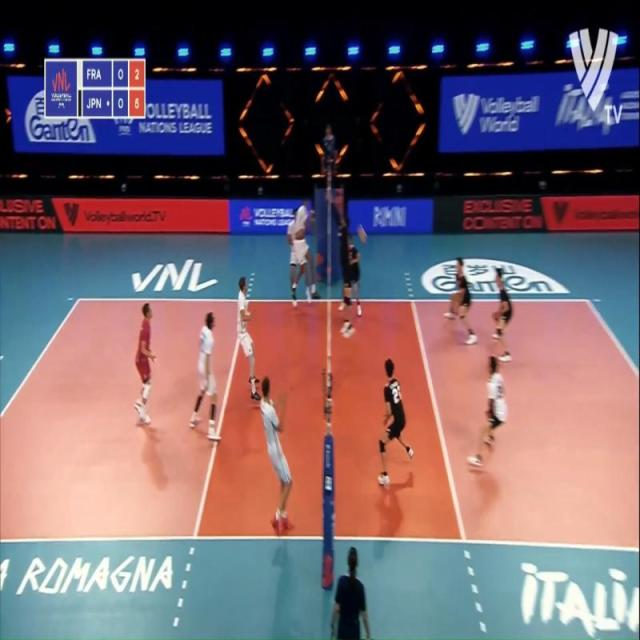volleyball: (357, 224, 368, 244)
